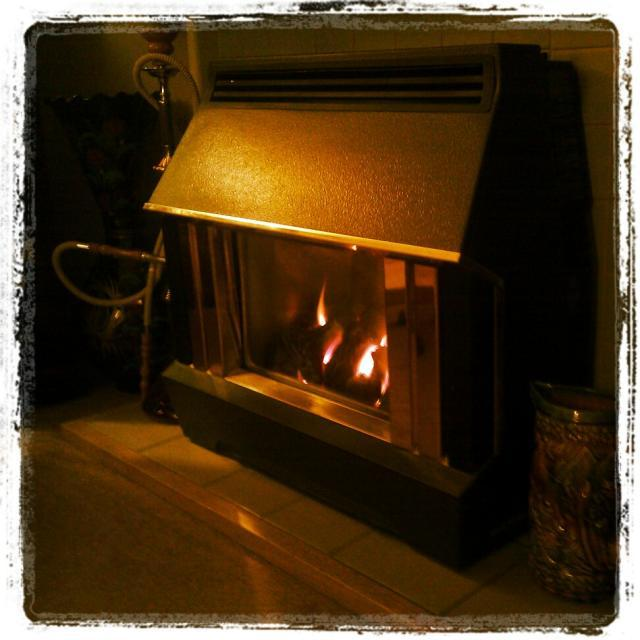Fire: (351, 339, 386, 385)
